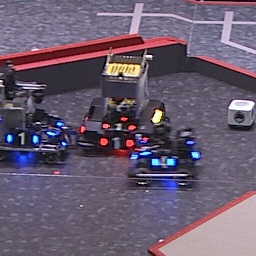Blue: (4, 131, 39, 146), (151, 154, 176, 170)
Red: (100, 134, 135, 151), (102, 118, 136, 134)
Robot: (81, 45, 170, 159), (1, 61, 74, 167), (129, 126, 200, 190)
